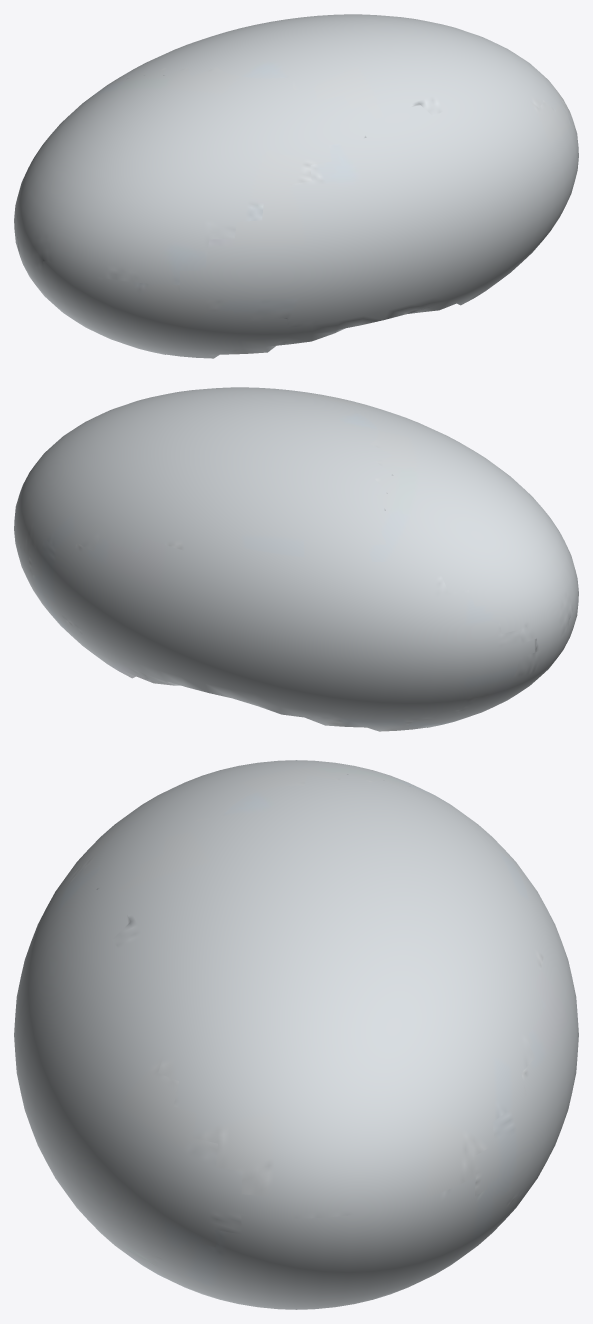
Rendered from alubia.glb.
The picture shows the model from 3 angles, top to bottom: view 1: azimuth 30°, elevation 25°; view 2: azimuth 150°, elevation 25°; view 3: azimuth 270°, elevation 25°; orthographic projection. The views are drawn at different scales.
Visible parts, largest first — view 1: alubia; view 2: alubia; view 3: alubia.
Part boxes in pixels (left/top/right/bottom): alubia: left=14, top=14, right=578, bottom=358; alubia: left=14, top=387, right=578, bottom=731; alubia: left=14, top=760, right=578, bottom=1309.
Bounding box in the file's own units: 20 × 9.22 × 13.
Materials: 1 (1 with a texture image).
